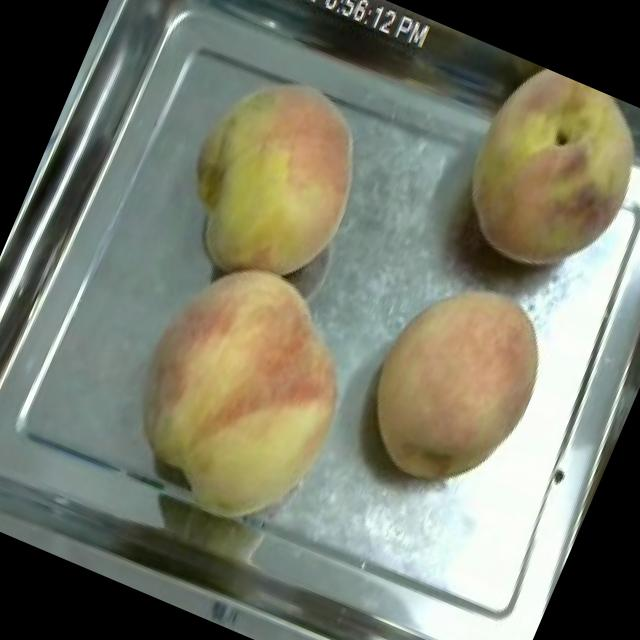Fruit: (95, 232, 392, 550), (152, 47, 396, 314), (333, 252, 575, 518), (428, 51, 640, 304)
